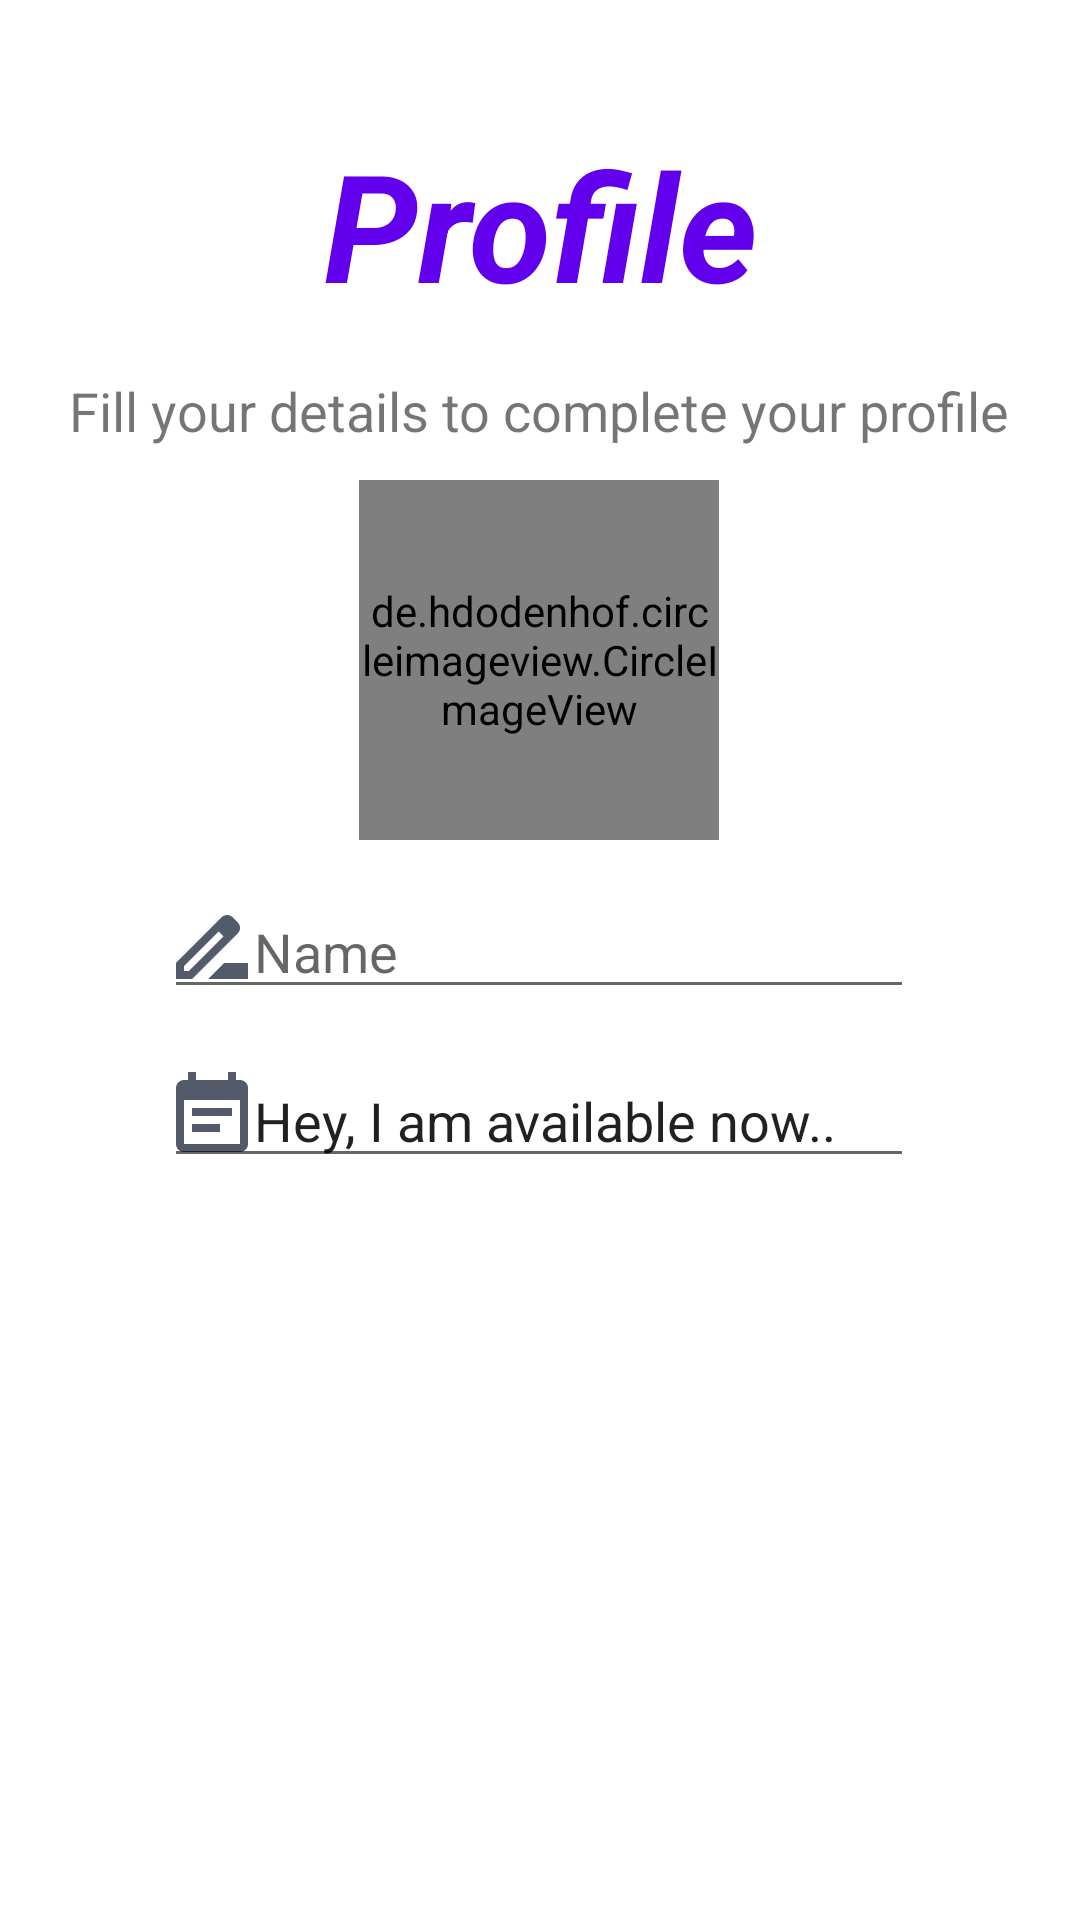

Point at icon controls on the screen. Image size 1080x1920, points as (x,y).
event note: (218,1113)
